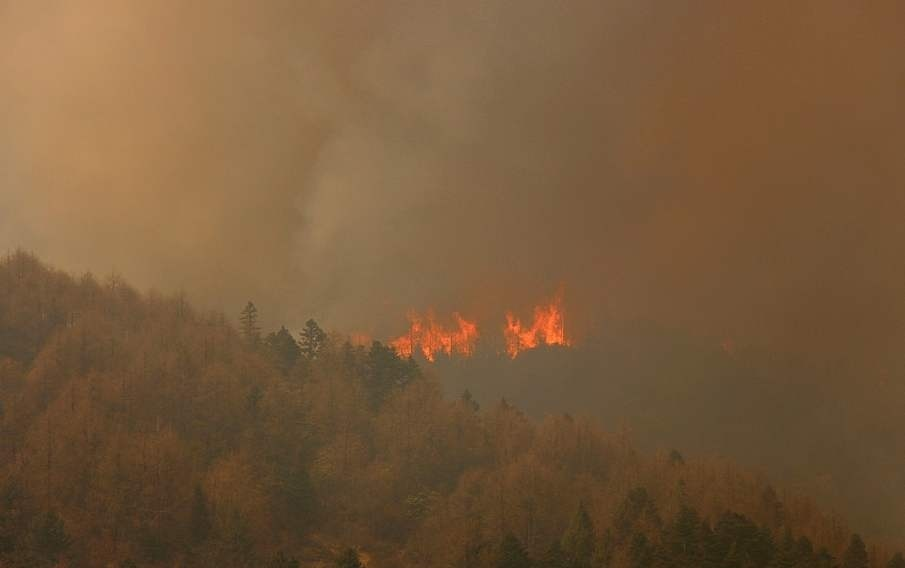fire: (378, 305, 482, 362), (500, 285, 576, 356)
